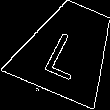L_NE: (41, 20, 95, 79)
